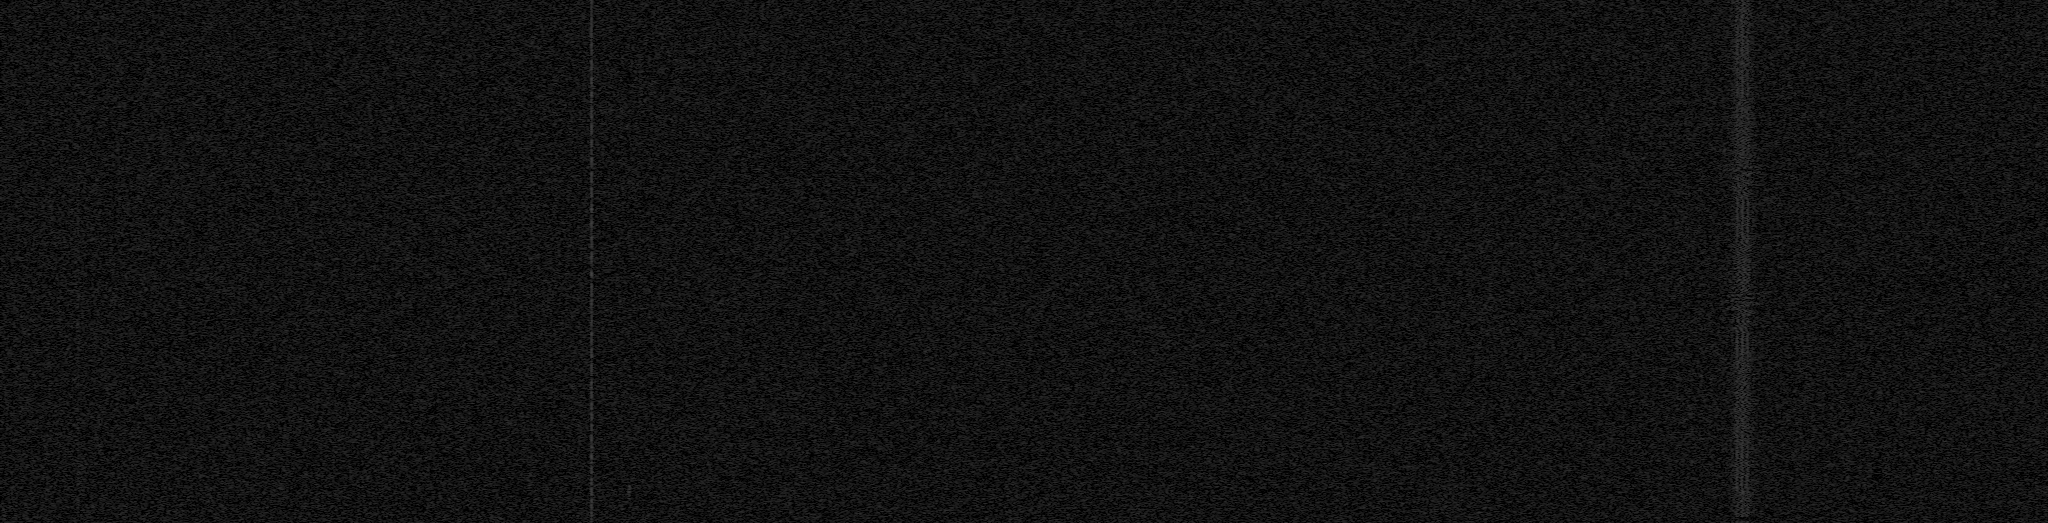wv_am: (589, 280, 594, 523), (589, 156, 594, 278), (589, 0, 594, 88), (589, 88, 594, 156)
wv_lsb: (76, 37, 80, 73), (76, 3, 81, 30), (76, 231, 80, 260), (627, 485, 632, 503), (76, 502, 80, 523), (76, 386, 80, 407), (76, 191, 80, 212), (76, 425, 81, 441), (76, 455, 81, 468), (627, 179, 632, 190), (76, 312, 80, 326), (76, 414, 81, 424), (76, 373, 80, 384), (76, 329, 80, 341), (76, 488, 80, 499), (76, 220, 80, 230), (76, 363, 80, 373), (76, 472, 80, 481), (76, 345, 80, 353), (76, 305, 80, 312), (76, 75, 80, 82), (76, 285, 80, 292), (76, 173, 80, 179), (76, 116, 80, 123), (76, 105, 80, 111), (76, 447, 80, 454), (628, 106, 631, 115), (76, 357, 80, 362), (76, 213, 80, 218), (76, 441, 80, 446), (628, 207, 631, 213), (76, 299, 80, 303), (76, 277, 80, 281), (76, 186, 80, 190), (76, 180, 80, 184), (76, 482, 80, 486), (76, 124, 80, 128), (76, 112, 80, 116), (76, 94, 80, 98), (76, 84, 80, 88), (76, 31, 80, 35), (77, 268, 80, 273), (77, 133, 80, 139), (628, 426, 631, 431), (628, 197, 631, 203), (76, 165, 80, 167), (77, 139, 80, 143), (76, 89, 80, 92), (628, 420, 631, 424), (628, 301, 631, 305), (628, 254, 631, 258), (628, 228, 631, 231), (628, 192, 631, 196), (628, 126, 631, 129), (628, 122, 631, 126), (77, 160, 80, 162), (77, 99, 80, 102), (628, 480, 631, 482), (628, 238, 631, 241), (628, 218, 631, 221), (628, 3, 631, 5)
wv_wbfm: (1716, 0, 1771, 516)
